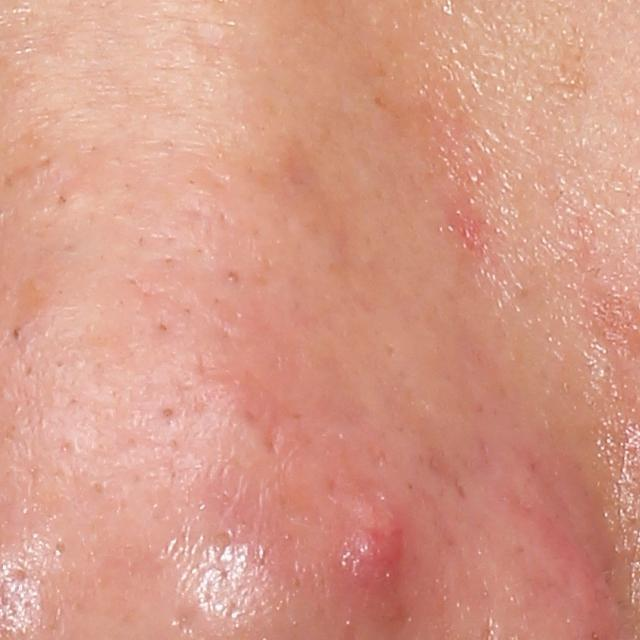comedo: (12, 327, 25, 341)
papule: (333, 494, 405, 627)
